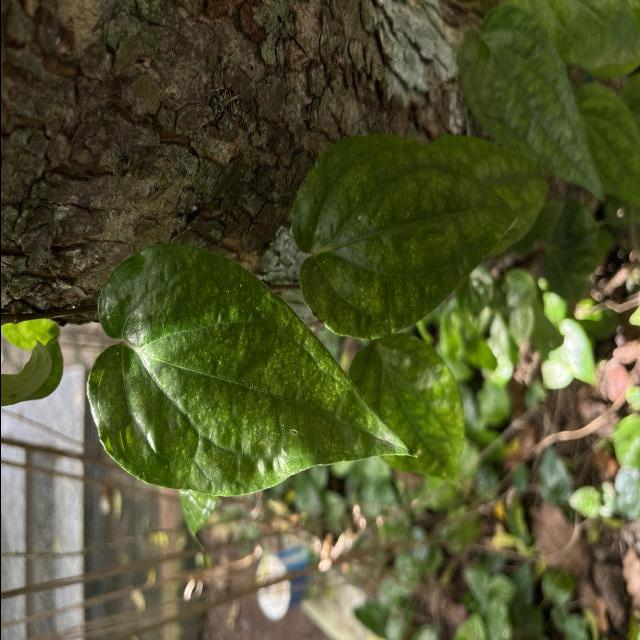Piper betle: (80, 238, 422, 500)
